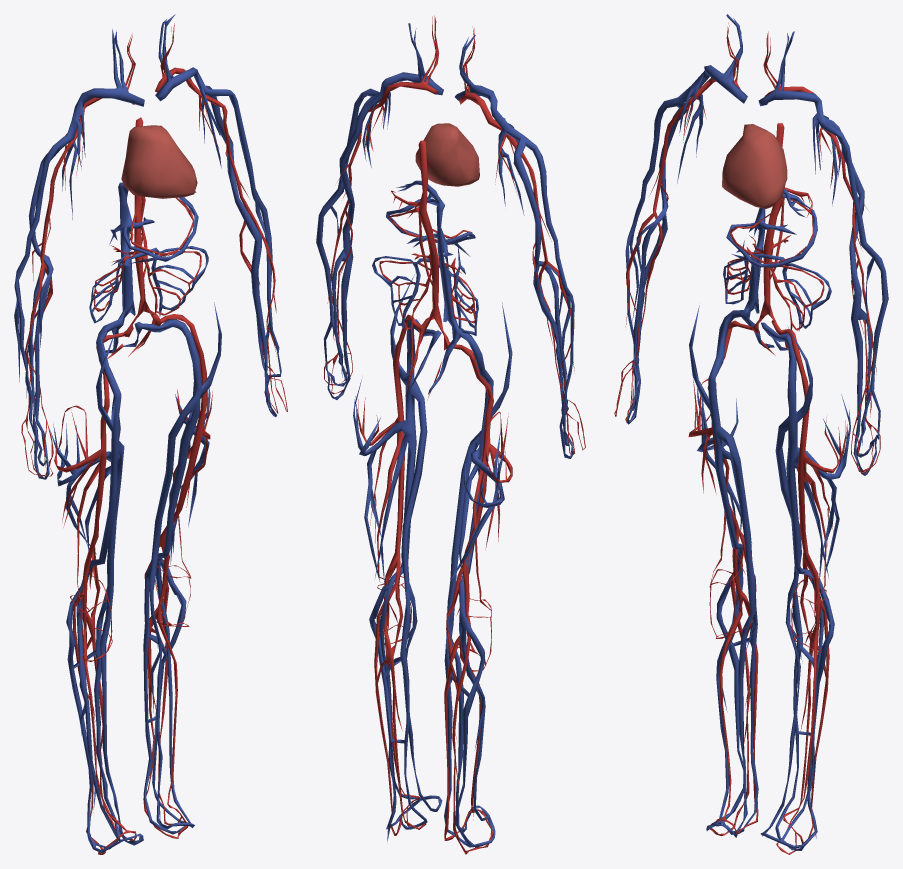
The model's file is pediatric_child_10y_female.cardiovascular.LOD3.glb.
3 views of the same model, side by side, from view 1: azimuth 30°, elevation 25°; view 2: azimuth 150°, elevation 25°; view 3: azimuth 330°, elevation 25° (orthographic).
Parts seen in each view (by area): view 1: PEDIATRIC.CHILD_10Y.FEMALE.CARDIOVASCULAR.BLOOD_IN_LARGE_VEI, PEDIATRIC.CHILD_10Y.FEMALE.CARDIOVASCULAR.BLOOD_IN_LARGE_ART, PEDIATRIC.CHILD_10Y.FEMALE.CARDIOVASCULAR.HEART_WALL; view 2: PEDIATRIC.CHILD_10Y.FEMALE.CARDIOVASCULAR.BLOOD_IN_LARGE_VEI, PEDIATRIC.CHILD_10Y.FEMALE.CARDIOVASCULAR.BLOOD_IN_LARGE_ART, PEDIATRIC.CHILD_10Y.FEMALE.CARDIOVASCULAR.HEART_WALL; view 3: PEDIATRIC.CHILD_10Y.FEMALE.CARDIOVASCULAR.BLOOD_IN_LARGE_VEI, PEDIATRIC.CHILD_10Y.FEMALE.CARDIOVASCULAR.BLOOD_IN_LARGE_ART, PEDIATRIC.CHILD_10Y.FEMALE.CARDIOVASCULAR.HEART_WALL.
Boxes of the visible parts, box(x1,y1,x2,y2) form: PEDIATRIC.CHILD_10Y.FEMALE.CARDIOVASCULAR.BLOOD_IN_LARGE_VEI: box(14, 14, 281, 853); PEDIATRIC.CHILD_10Y.FEMALE.CARDIOVASCULAR.BLOOD_IN_LARGE_ART: box(21, 23, 287, 854); PEDIATRIC.CHILD_10Y.FEMALE.CARDIOVASCULAR.HEART_WALL: box(121, 125, 197, 198); PEDIATRIC.CHILD_10Y.FEMALE.CARDIOVASCULAR.BLOOD_IN_LARGE_VEI: box(316, 23, 574, 847); PEDIATRIC.CHILD_10Y.FEMALE.CARDIOVASCULAR.BLOOD_IN_LARGE_ART: box(324, 15, 585, 854); PEDIATRIC.CHILD_10Y.FEMALE.CARDIOVASCULAR.HEART_WALL: box(415, 123, 479, 186); PEDIATRIC.CHILD_10Y.FEMALE.CARDIOVASCULAR.BLOOD_IN_LARGE_VEI: box(625, 14, 888, 850); PEDIATRIC.CHILD_10Y.FEMALE.CARDIOVASCULAR.BLOOD_IN_LARGE_ART: box(614, 22, 880, 854); PEDIATRIC.CHILD_10Y.FEMALE.CARDIOVASCULAR.HEART_WALL: box(722, 124, 787, 208).
Bounding box in the file's own units: 0.4057 × 1.24 × 0.1473.
